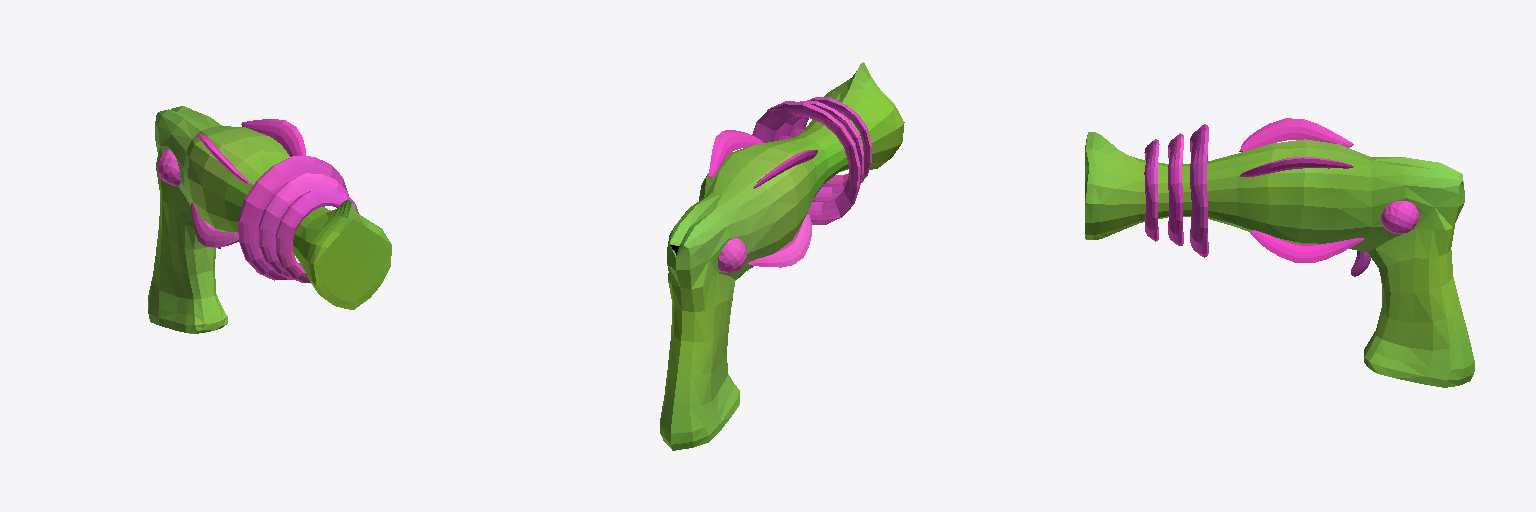
3 views of the same model, side by side, from view 1: azimuth 30°, elevation 25°; view 2: azimuth 150°, elevation 25°; view 3: azimuth 270°, elevation 25° (orthographic).
Visible parts, largest first — view 1: Group32634, Group32649, Group32664, Group32679, Group32709, Group32589, Group32619; view 2: Group32634, Group32649, Group32679, Group32664, Group32589, Group32709, Group32619, Group32604; view 3: Group32634, Group32649, Group32604, Group32694, Group32664, Group32679, Group32709, Group32724.
Boxes of the visible parts, <box> form: Group32634: <box>148,106,391,333</box>; Group32649: <box>238,156,346,280</box>; Group32664: <box>259,173,348,278</box>; Group32679: <box>275,188,358,282</box>; Group32709: <box>241,119,305,156</box>; Group32589: <box>191,202,238,247</box>; Group32619: <box>157,149,180,185</box>; Group32634: <box>660,62,904,450</box>; Group32649: <box>752,101,860,224</box>; Group32679: <box>790,97,871,186</box>; Group32664: <box>774,101,863,201</box>; Group32589: <box>748,214,811,267</box>; Group32709: <box>709,130,762,177</box>; Group32619: <box>718,238,746,272</box>; Group32604: <box>753,150,817,188</box>; Group32634: <box>1085,132,1474,387</box>; Group32649: <box>1190,124,1208,257</box>; Group32604: <box>1239,118,1353,151</box>; Group32694: <box>1250,230,1363,262</box>; Group32664: <box>1168,133,1183,245</box>; Group32679: <box>1144,139,1159,241</box>; Group32709: <box>1240,157,1353,176</box>; Group32724: <box>1381,201,1419,233</box>.
Bounding box in the file's own units: 0.4519 × 1 × 1.39.
Materials: 1 (1 with a texture image).